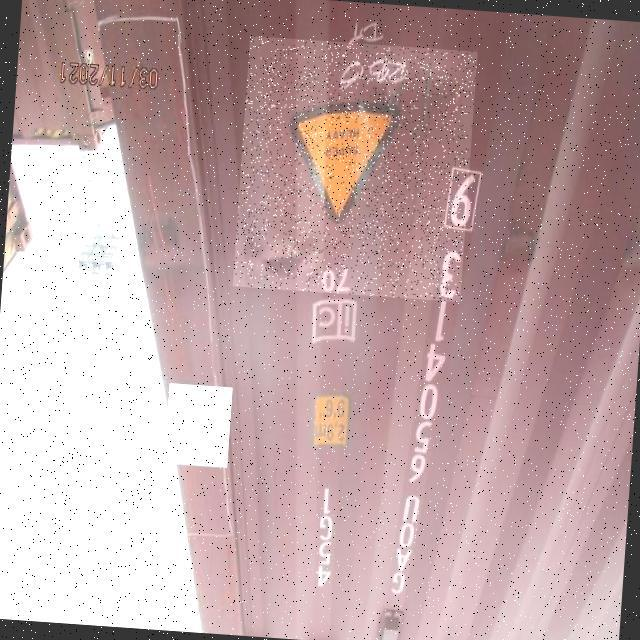Dent: (232, 36, 477, 302)
